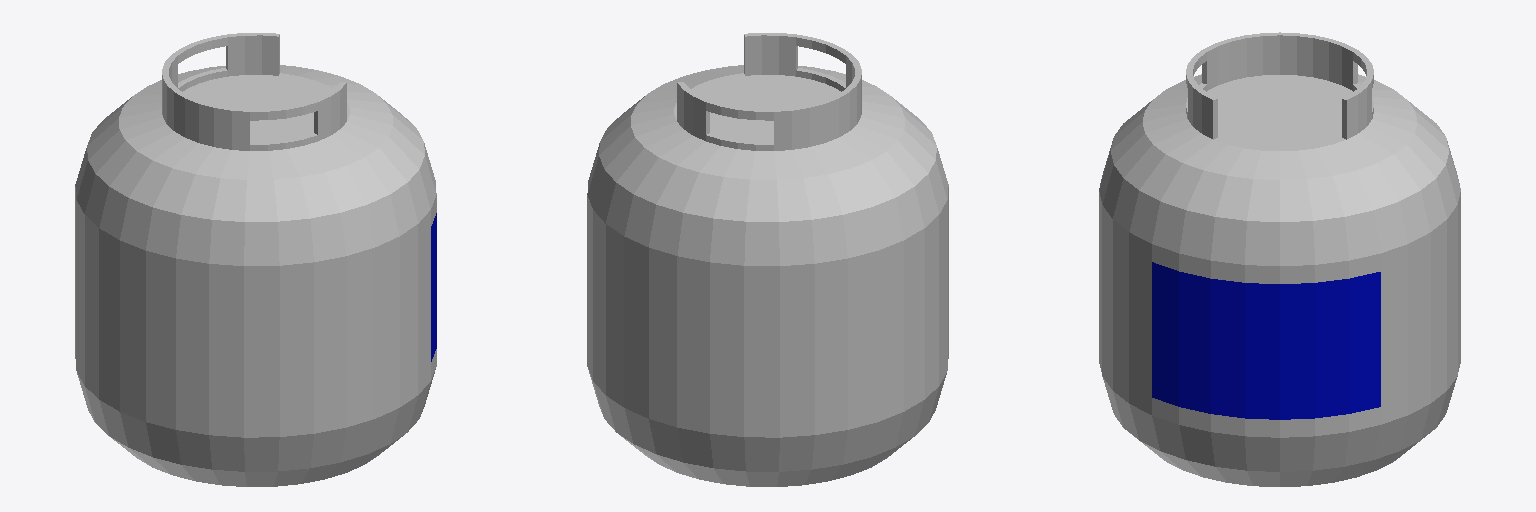
File: propane_tank.obj
The picture shows the model from 3 angles: view 1: azimuth 30°, elevation 25°; view 2: azimuth 150°, elevation 25°; view 3: azimuth 270°, elevation 25°; orthographic projection.
Visible parts, largest first — view 1: Cylinder; view 2: Cylinder; view 3: Cylinder.
Boxes of the visible parts, <box> form: Cylinder: <box>75,33,436,486</box>; Cylinder: <box>587,33,948,486</box>; Cylinder: <box>1099,32,1460,486</box>.
Bounding box in the file's own units: 1 × 1.12 × 1.